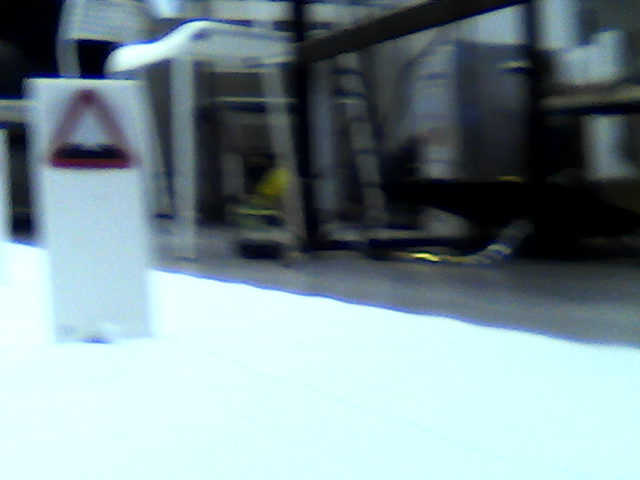Nerov: (44, 91, 138, 176)
